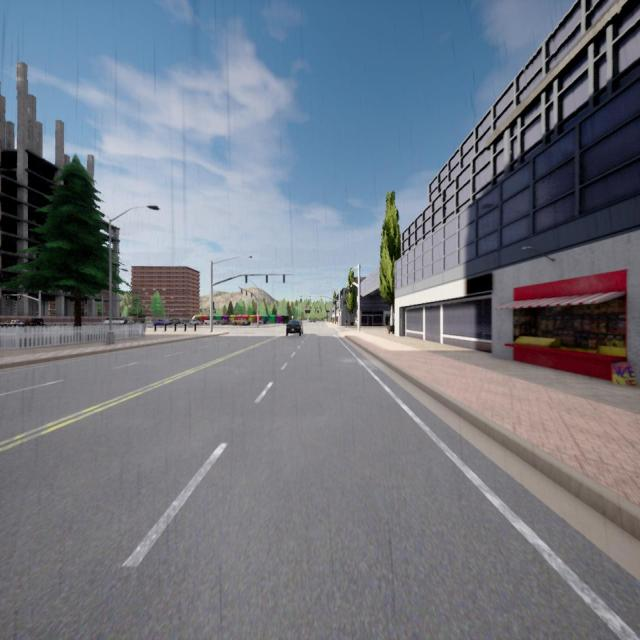Vehicle: (286, 319, 303, 336), (103, 316, 130, 325), (25, 318, 44, 327), (4, 319, 24, 327), (233, 318, 250, 326), (154, 318, 170, 326), (204, 318, 218, 325), (170, 318, 183, 325), (188, 319, 200, 325), (220, 319, 230, 325), (258, 318, 266, 325)
traffic_light: (212, 302, 215, 309), (283, 274, 285, 283), (245, 275, 247, 283), (266, 274, 268, 282), (300, 295, 302, 301), (309, 295, 311, 301), (320, 295, 322, 301), (240, 289, 242, 294), (338, 310, 340, 315), (7, 295, 9, 299), (36, 310, 38, 314), (18, 295, 20, 299), (246, 290, 247, 296), (251, 292, 252, 298)
